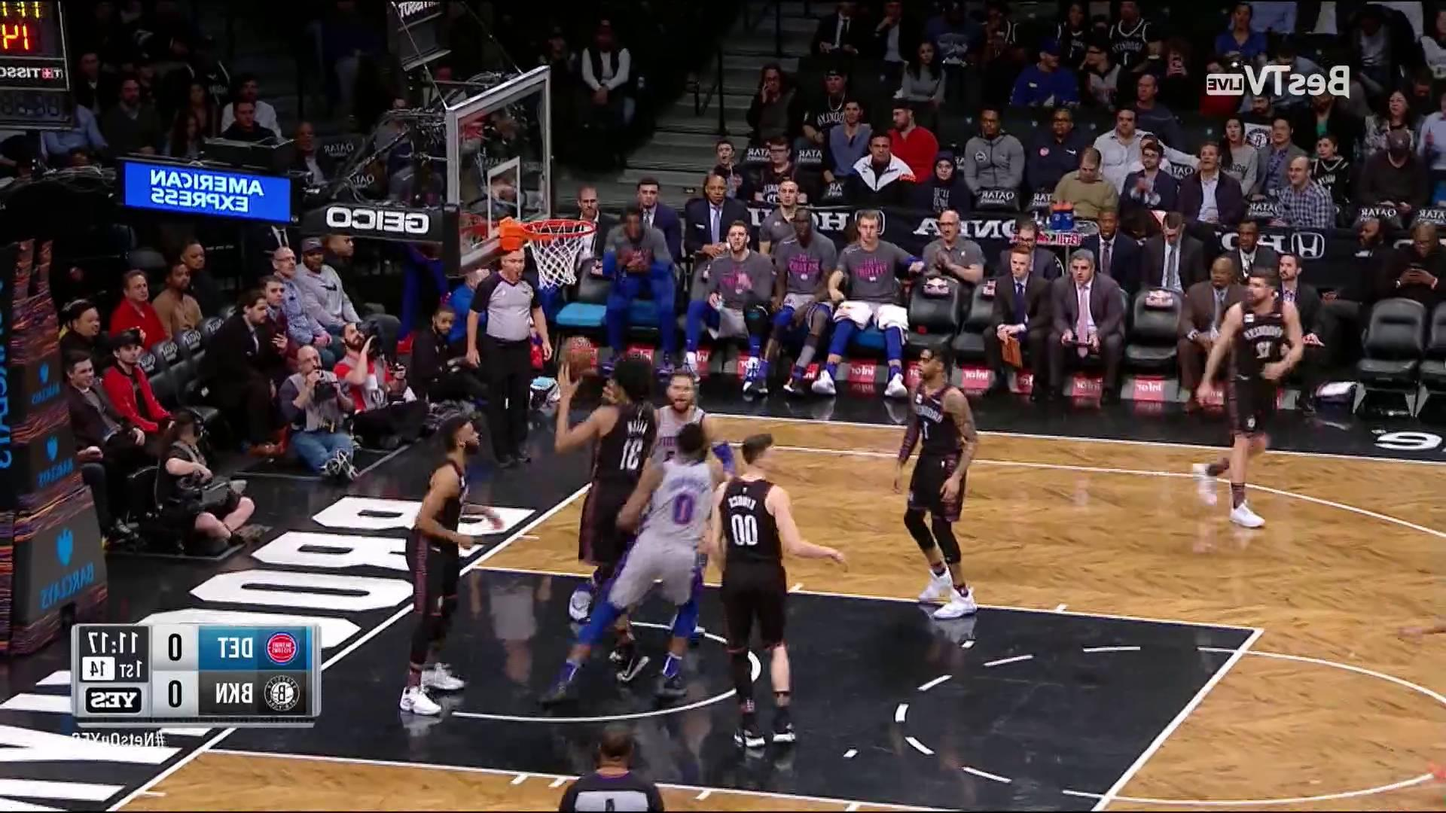basketball: (558, 336, 596, 375)
